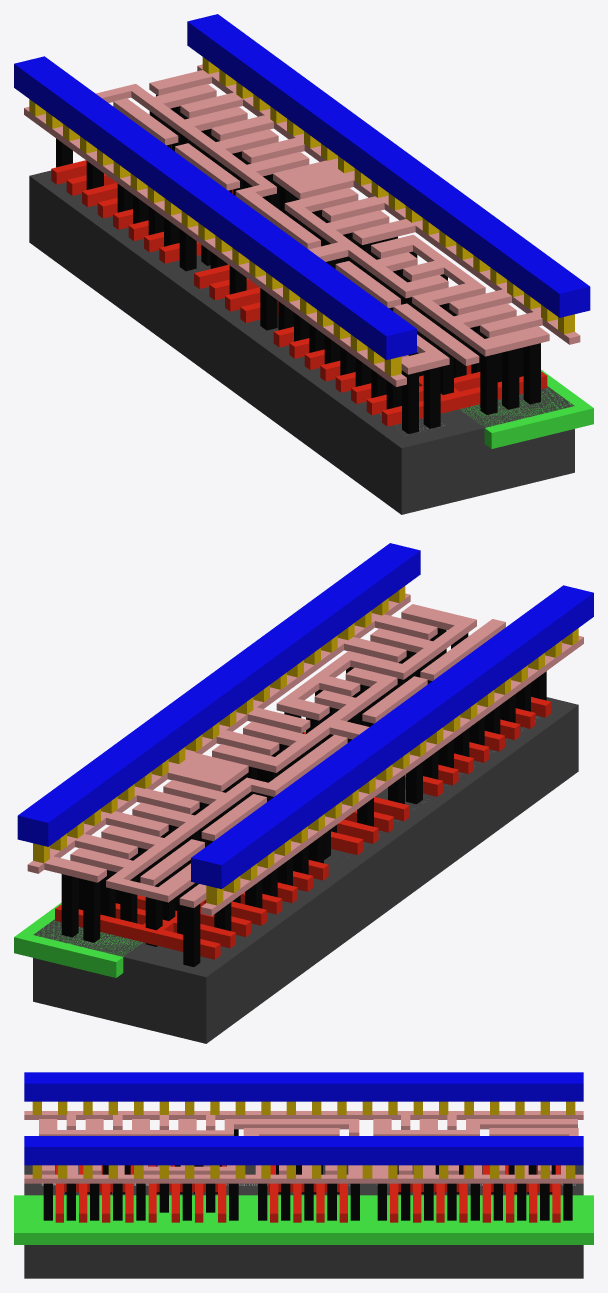
File: sky130_fd_sc_hd__o2bb2ai_4.obj
3 views of the same model, one above another, from view 1: azimuth 30°, elevation 25°; view 2: azimuth 150°, elevation 25°; view 3: azimuth 270°, elevation 25° (orthographic). The views are drawn at different scales.
Parts seen in each view (by area): view 1: subs, metal1, li, licon, poly, mcon, nwell; view 2: subs, metal1, li, licon, poly, mcon, nwell; view 3: metal1, subs, nwell, li, licon, poly, mcon.
Boxes of the visible parts, <box> form: subs: <box>29,170,574,514</box>; metal1: <box>14,14,590,360</box>; li: <box>24,64,580,386</box>; licon: <box>56,95,540,433</box>; poly: <box>51,144,547,426</box>; mcon: <box>29,57,574,376</box>; nwell: <box>460,369,593,448</box>; subs: <box>33,697,578,1043</box>; metal1: <box>17,543,593,889</box>; li: <box>27,593,583,915</box>; licon: <box>61,628,546,966</box>; poly: <box>55,697,551,959</box>; mcon: <box>33,586,578,905</box>; nwell: <box>14,730,305,977</box>; metal1: <box>24,1072,583,1165</box>; subs: <box>24,1165,583,1278</box>; nwell: <box>14,1195,593,1244</box>; li: <box>24,1111,583,1183</box>; licon: <box>43,1129,572,1220</box>; poly: <box>55,1165,560,1222</box>; mcon: <box>32,1101,575,1178</box>.
Size of the model in its own units: 3.2 by 2.74 by 10.5.
